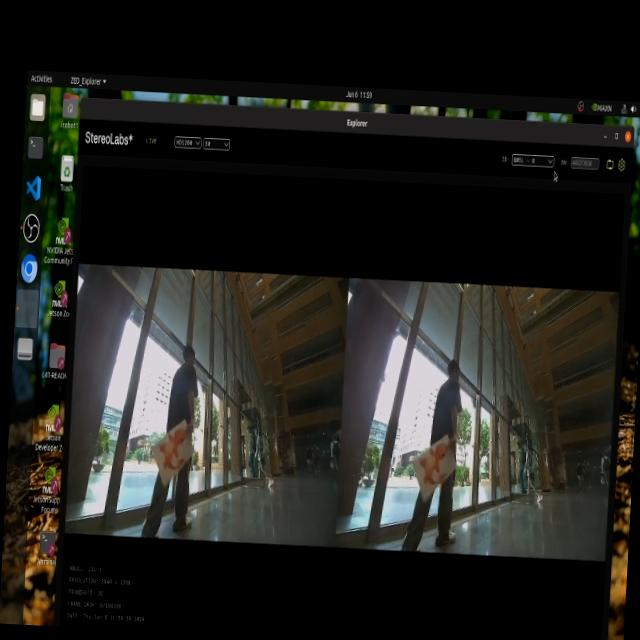red: (151, 428, 205, 484), (409, 429, 449, 486)
